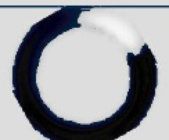ProgressBar: (1, 1, 168, 139)
